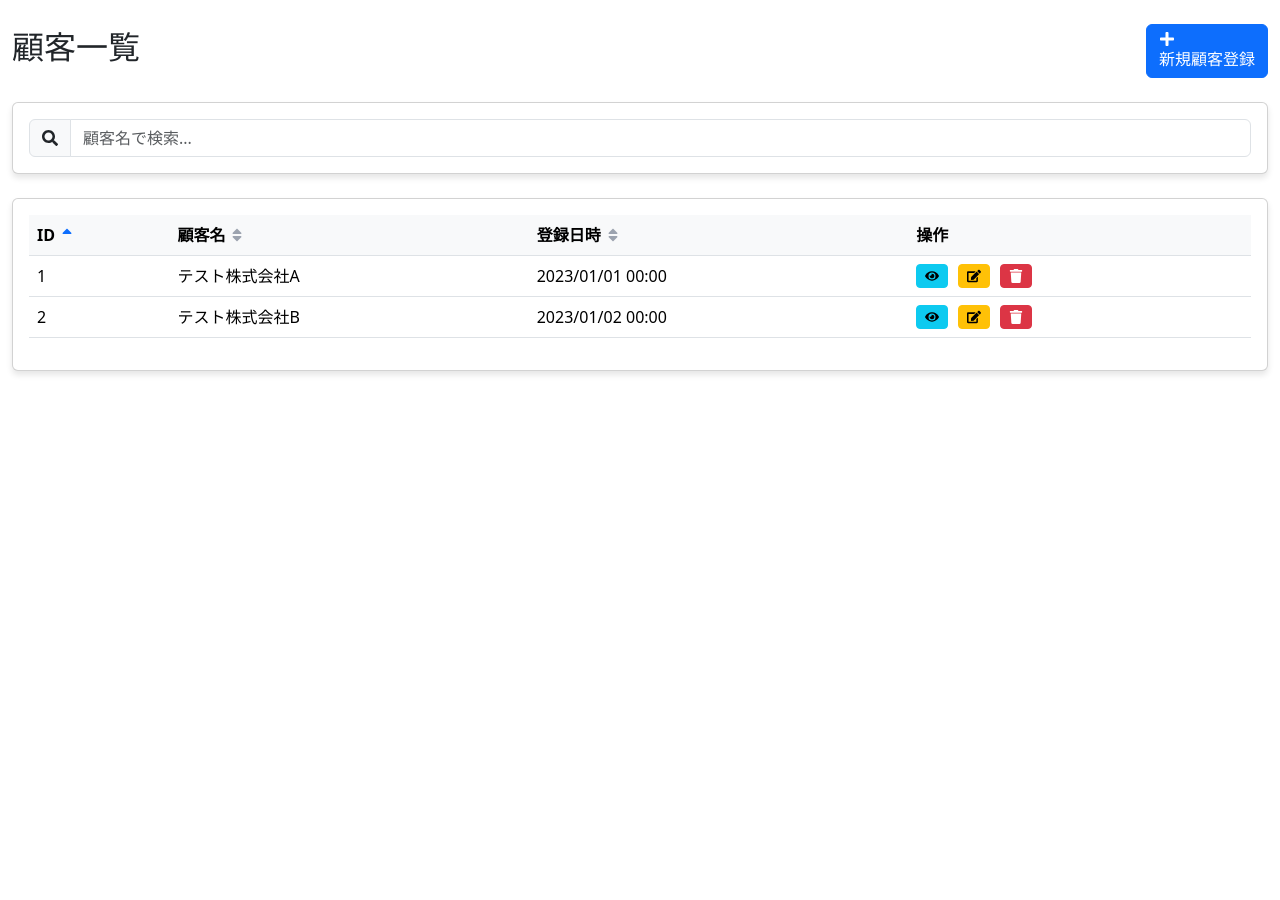
CustomerList Component › opens delete modal when delete button is clicked
削除ボタンをクリック
Click the button titled "削除" in the row of "テスト株式会社A" at point(1016, 276), box [1000, 264, 1032, 288]
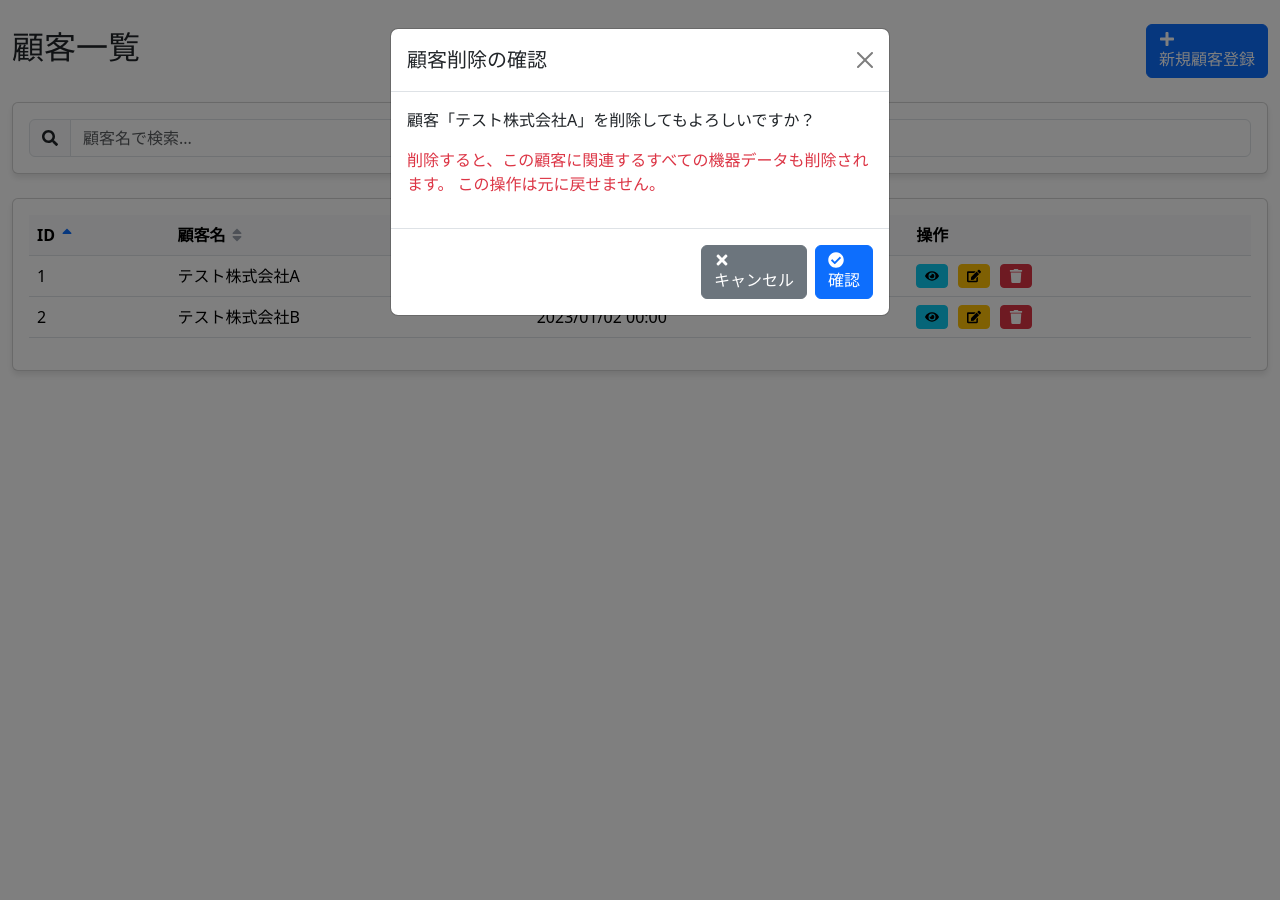
Result: the heading "顧客削除の確認" is shown at [407, 45, 547, 75]
Result: the text "削除すると、この顧客に関連するすべての機器データも削除されます。 この操作は元に戻せません。" is shown at [407, 148, 873, 196]
